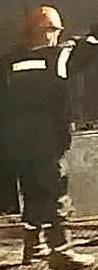helmet: (25, 6, 65, 37)
vest: (6, 44, 81, 172)
